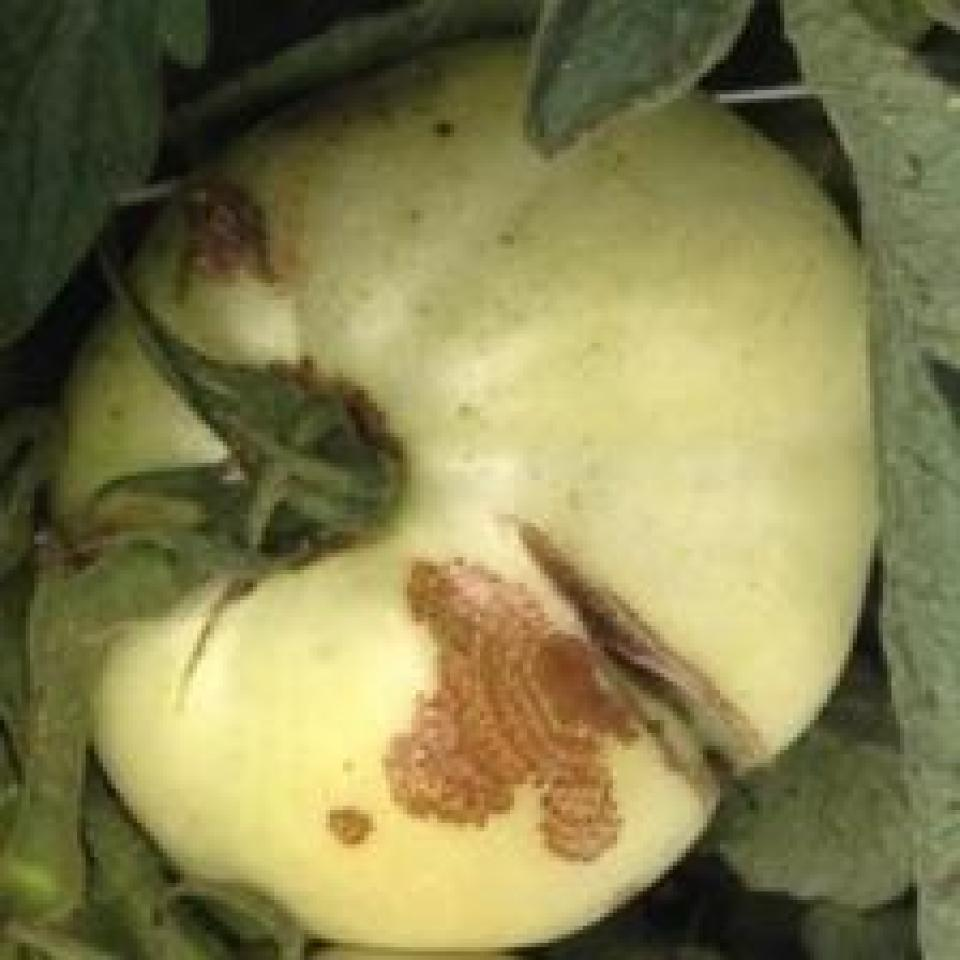Spotted wilt Virus: (54, 33, 882, 959)
